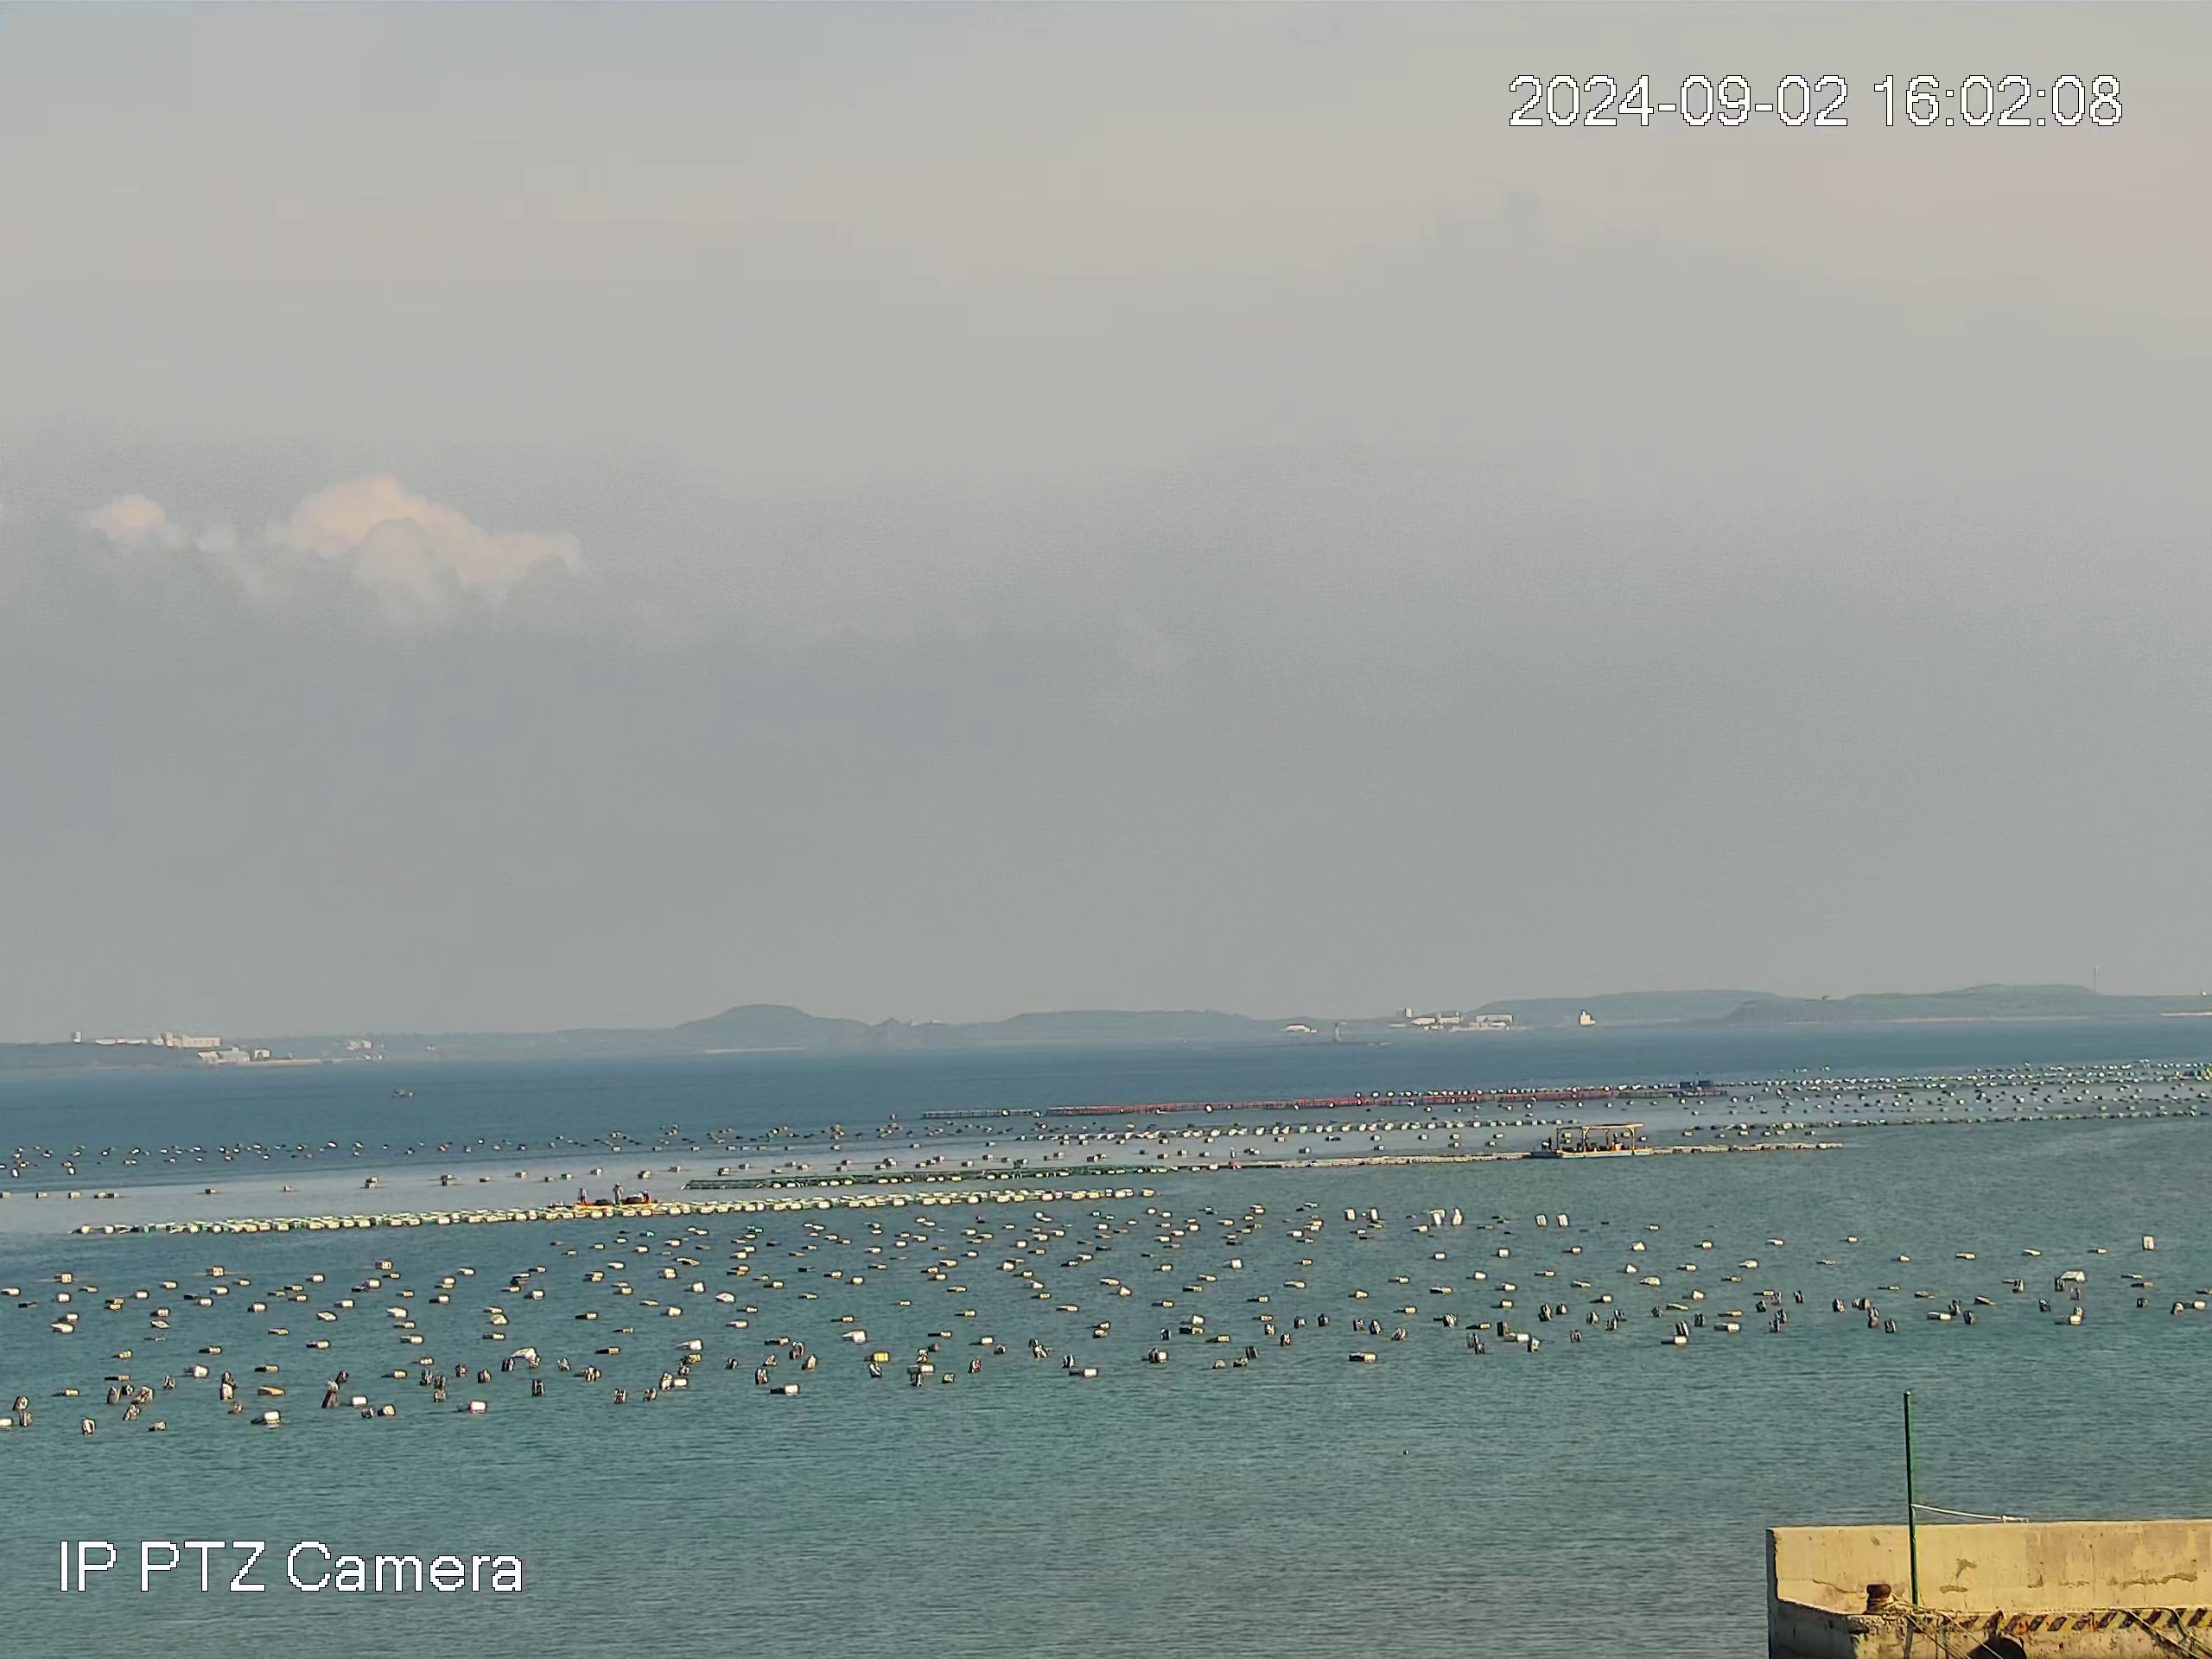boat: (1552, 1122, 1653, 1159), (571, 1182, 658, 1209), (390, 1087, 415, 1100)
